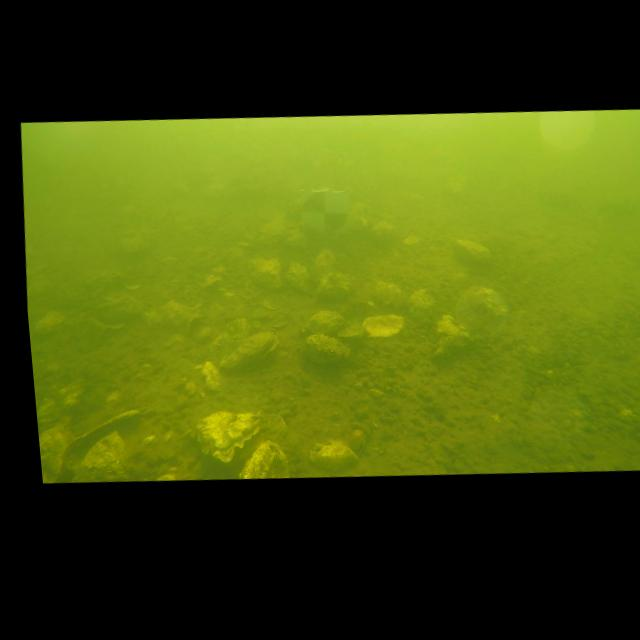Oyster-Closed: (196, 412, 263, 462), (216, 328, 277, 372), (456, 287, 508, 326), (239, 441, 290, 479), (145, 301, 202, 334), (433, 314, 472, 358), (97, 294, 144, 328), (310, 442, 358, 471), (304, 333, 350, 363), (303, 310, 347, 334), (317, 273, 350, 302), (252, 258, 282, 288), (375, 282, 409, 308), (311, 249, 337, 279), (286, 262, 309, 292)
Oyster-Indeterminate: (81, 427, 140, 480), (39, 422, 76, 483), (205, 315, 252, 358)
Oyster-Open: (55, 410, 141, 483), (362, 314, 405, 337)
